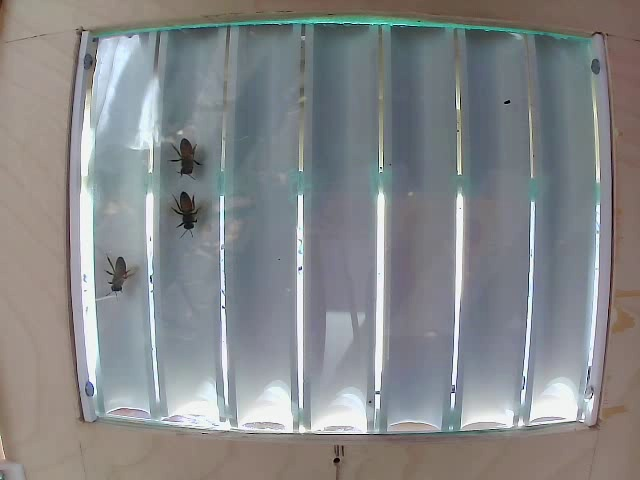bee: (168, 189, 207, 229), (181, 132, 209, 174), (109, 257, 138, 290)
